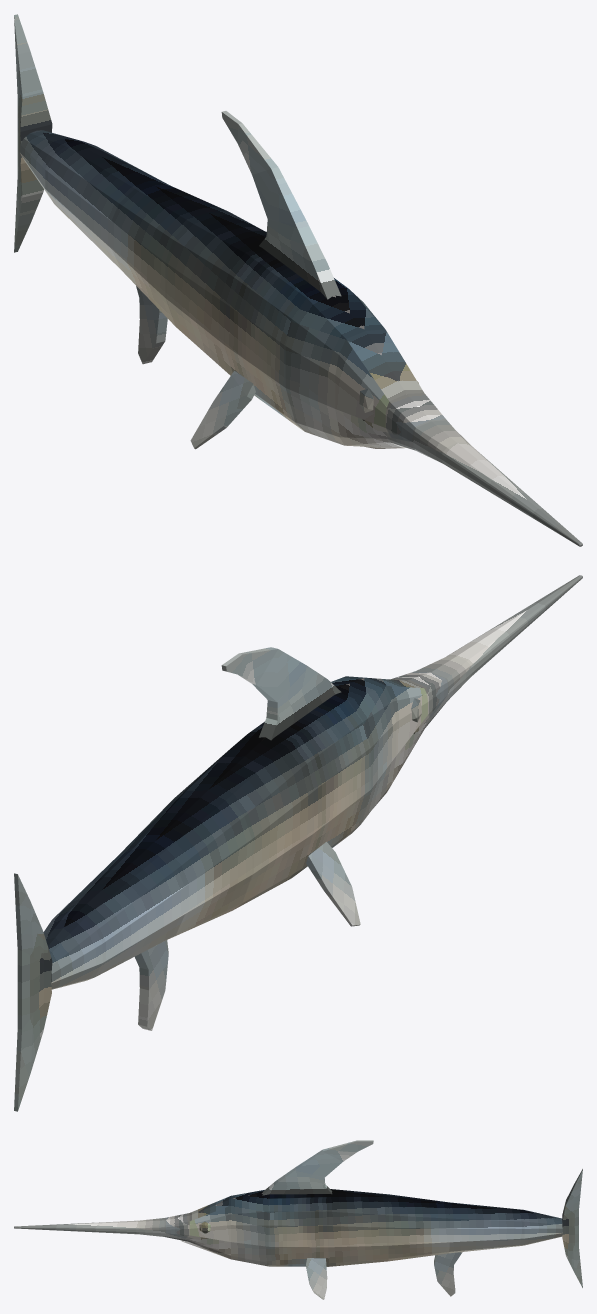
Rendered from SwordFish_1.glb.
3 renders of one model, top to bottom at view 1: azimuth 30°, elevation 25°; view 2: azimuth 150°, elevation 25°; view 3: azimuth 270°, elevation 25°, orthographic. The views are drawn at different scales.
Parts seen in each view (by area): view 1: Icosphere.001; view 2: Icosphere.001; view 3: Icosphere.001.
Boxes of the visible parts, bbox=[...] form: Icosphere.001: bbox=[14, 14, 582, 546]; Icosphere.001: bbox=[14, 575, 582, 1111]; Icosphere.001: bbox=[14, 1140, 582, 1299].
Bounding box in the file's own units: 1.49 × 2.62 × 8.73.
Materials: 1 (1 with a texture image).
